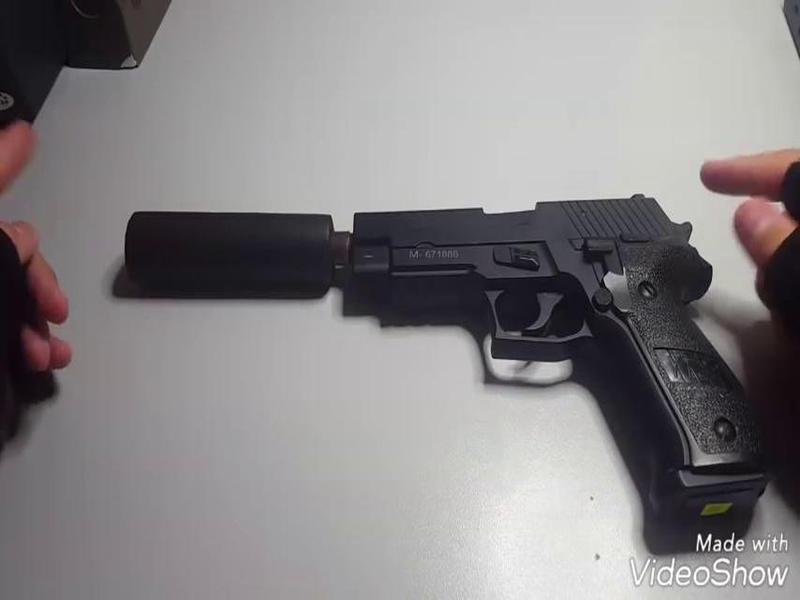Pistola: (349, 184, 786, 525)
